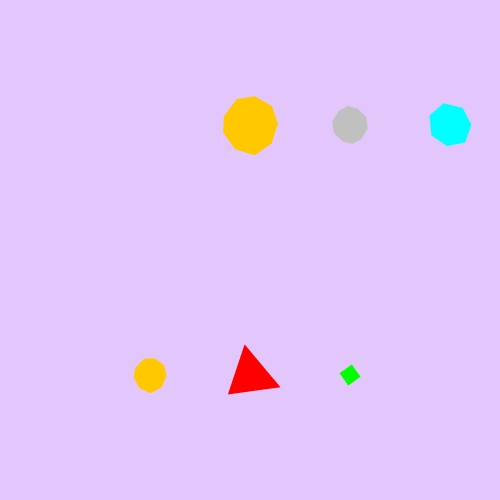decagon: (327, 104, 373, 146)
heptagon: (425, 101, 476, 150)
nonagon: (218, 94, 283, 156), (129, 355, 171, 396)
quadrilateral: (335, 360, 365, 390)
triangle: (223, 347, 277, 404)
